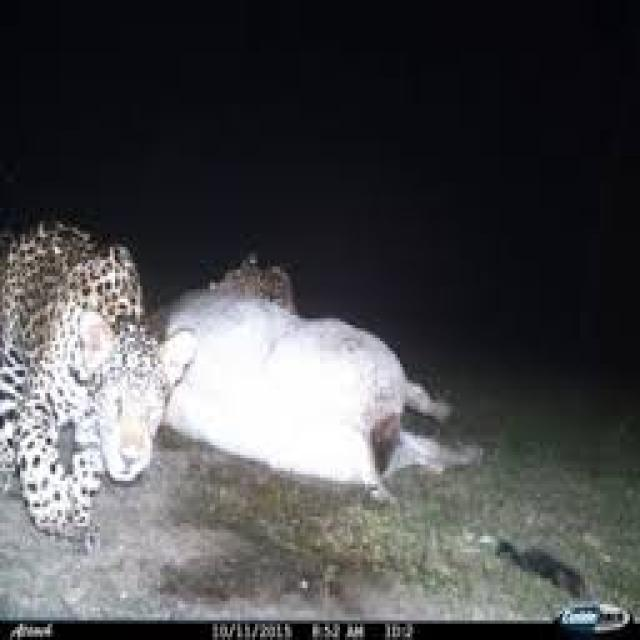Jaguar: (0, 214, 200, 546)
